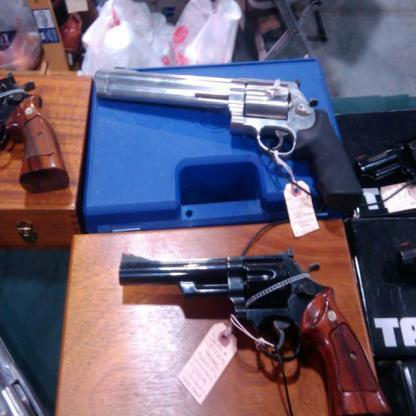weapon: (118, 248, 390, 416), (94, 68, 364, 205)
